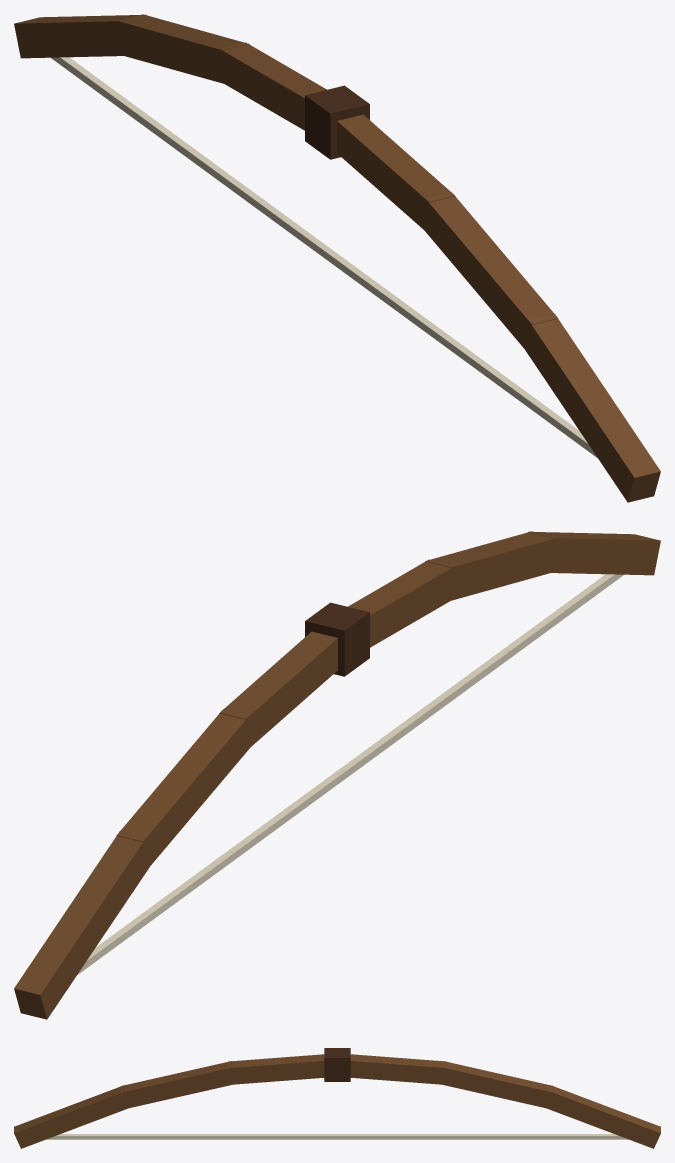
The model's file is bow.glb.
3 views of the same model, one above another, from view 1: azimuth 30°, elevation 25°; view 2: azimuth 150°, elevation 25°; view 3: azimuth 270°, elevation 25° (orthographic). The views are drawn at different scales.
Visible parts, largest first — view 1: bow; view 2: bow; view 3: bow.
Part boxes in pixels (x1,y1,x2,y2): bow: (14,14,660,502); bow: (14,531,660,1019); bow: (14,1048,660,1148).
Bounding box in the file's own units: 0.045 × 0.1931 × 1.22.
